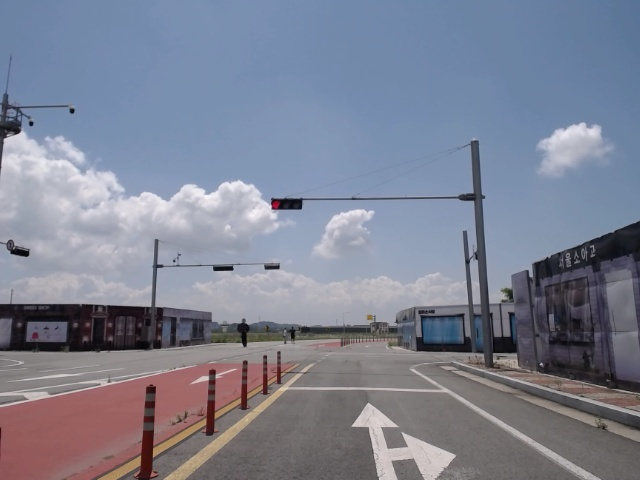red_3: (270, 199, 304, 210)
